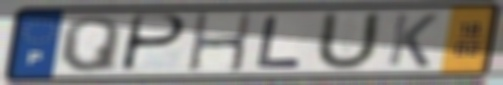H: (186, 10, 255, 74)
K: (383, 11, 441, 70)
L: (254, 14, 306, 70)
P: (116, 13, 190, 75)
Q: (57, 14, 124, 74)
U: (311, 10, 384, 73)
